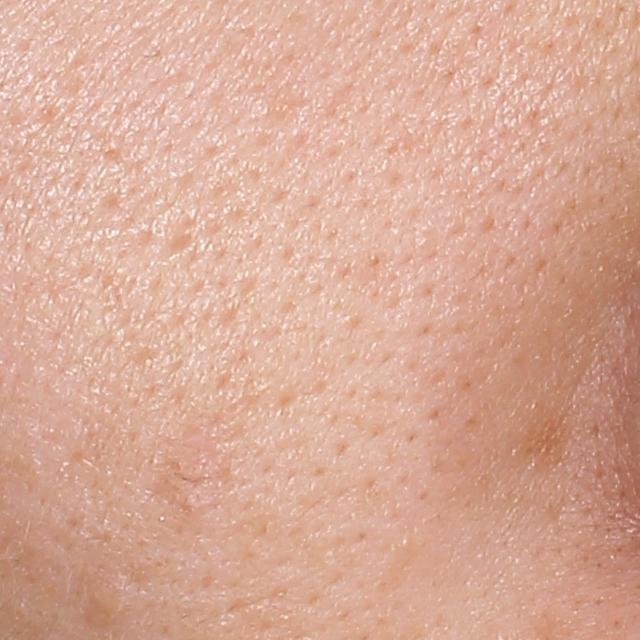atrophic_scar: (162, 231, 199, 263)
